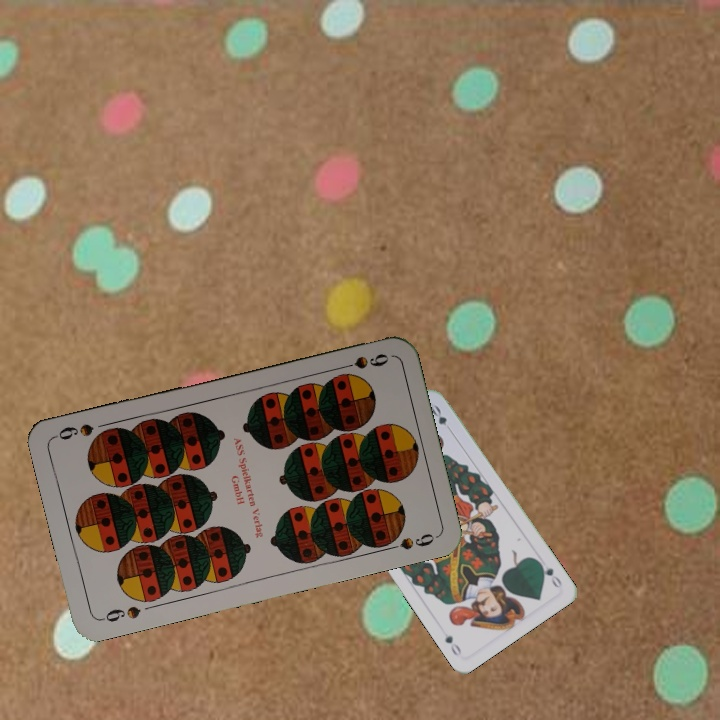GO: (534, 557, 565, 591)
S9: (333, 349, 392, 373), (96, 602, 143, 625)
